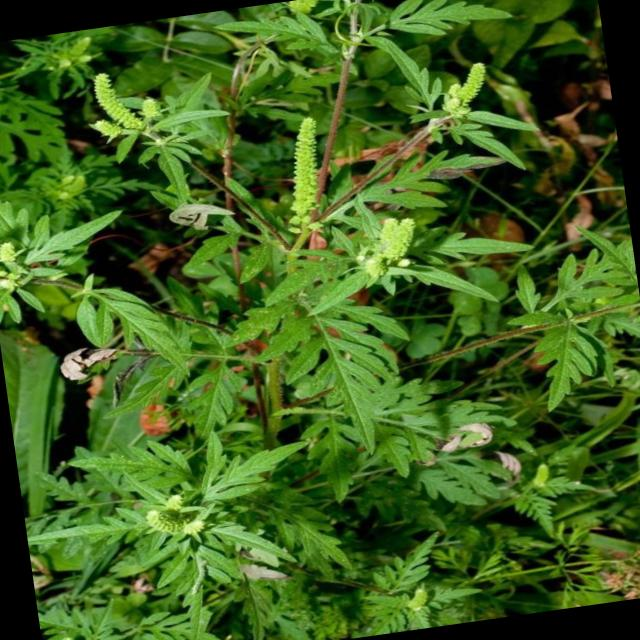ambrosia: (217, 44, 541, 372), (40, 387, 371, 640), (41, 42, 247, 214)
